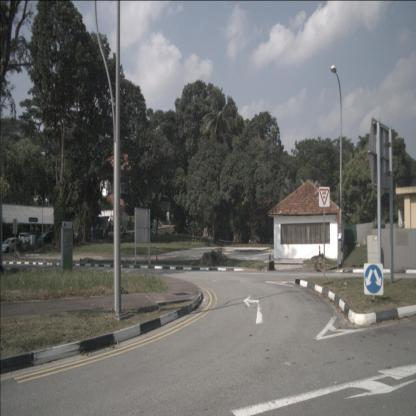cone: (155, 251, 158, 262)
